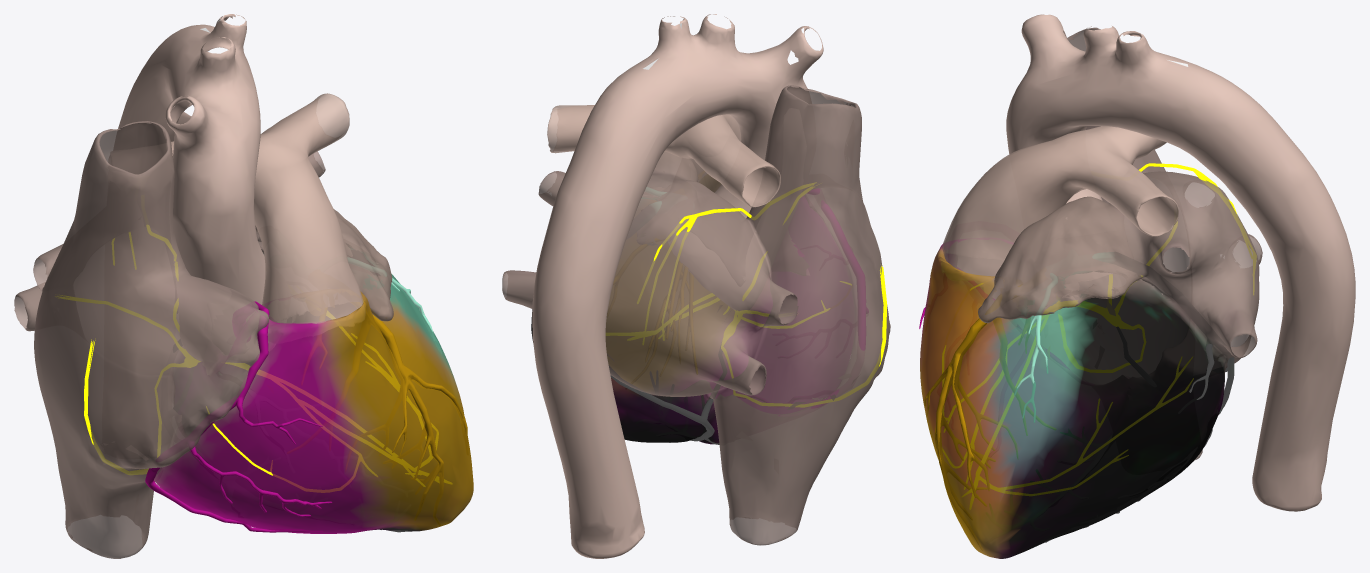
The model's file is ArteryHeartCase2.glb.
3 views of the same model, side by side, from view 1: azimuth 30°, elevation 25°; view 2: azimuth 150°, elevation 25°; view 3: azimuth 270°, elevation 25° (orthographic). The views are drawn at different scales.
Visible parts, largest first — view 1: Pulmonary_trunk_Pulmonary_trunk_0; view 2: Pulmonary_trunk_Pulmonary_trunk_0; view 3: Pulmonary_trunk_Pulmonary_trunk_0.
Boxes of the visible parts, x1=… form: Pulmonary_trunk_Pulmonary_trunk_0: x1=14, y1=14, x2=473, y2=558; Pulmonary_trunk_Pulmonary_trunk_0: x1=502, y1=14, x2=890, y2=558; Pulmonary_trunk_Pulmonary_trunk_0: x1=919, y1=14, x2=1355, y2=558.
Size of the model in its own units: 1.81 by 2.48 by 2.03.
